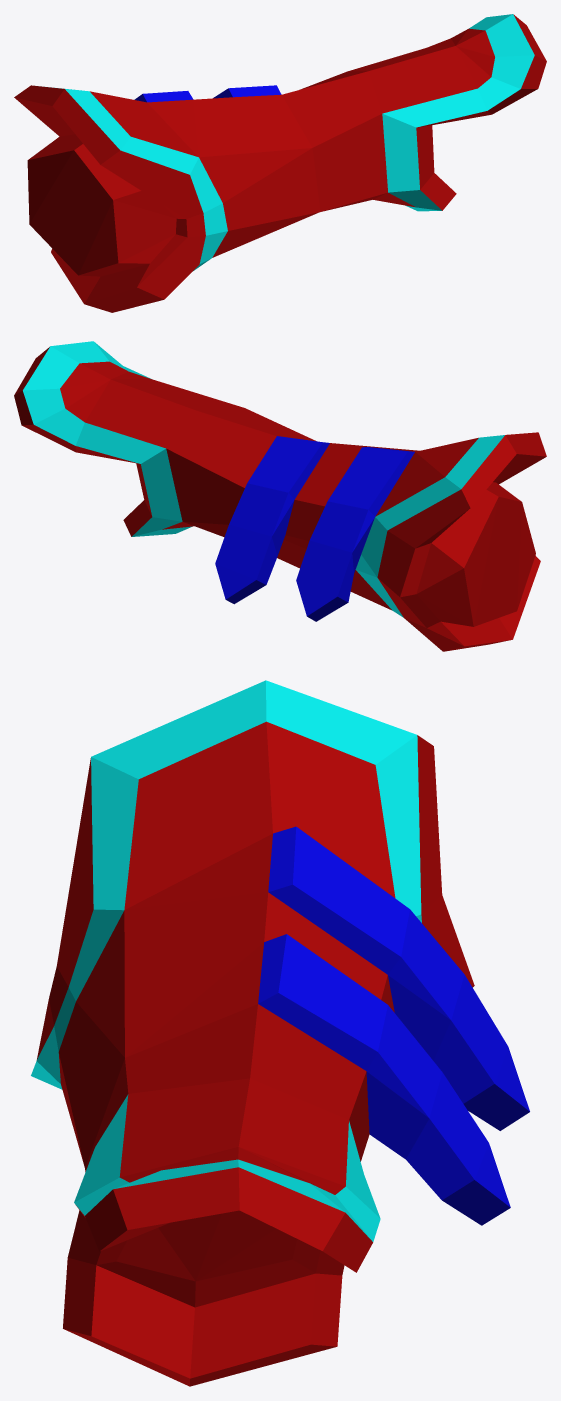
The model's file is Chr_ArmLowerLeft_Male_Static_06.fbx.
The picture shows the model from 3 angles, top to bottom: view 1: azimuth 30°, elevation 25°; view 2: azimuth 150°, elevation 25°; view 3: azimuth 270°, elevation 25°; orthographic projection. The views are drawn at different scales.
Parts seen in each view (by area): view 1: Chr_ArmLowerLeft_Male_06; view 2: Chr_ArmLowerLeft_Male_06; view 3: Chr_ArmLowerLeft_Male_06.
Part boxes in pixels (x1,y1,x2,y2): Chr_ArmLowerLeft_Male_06: (14,14,546,312); Chr_ArmLowerLeft_Male_06: (14,341,546,651); Chr_ArmLowerLeft_Male_06: (31,680,529,1386).
Size of the model in its own units: 39.29 by 17.67 by 18.19.
